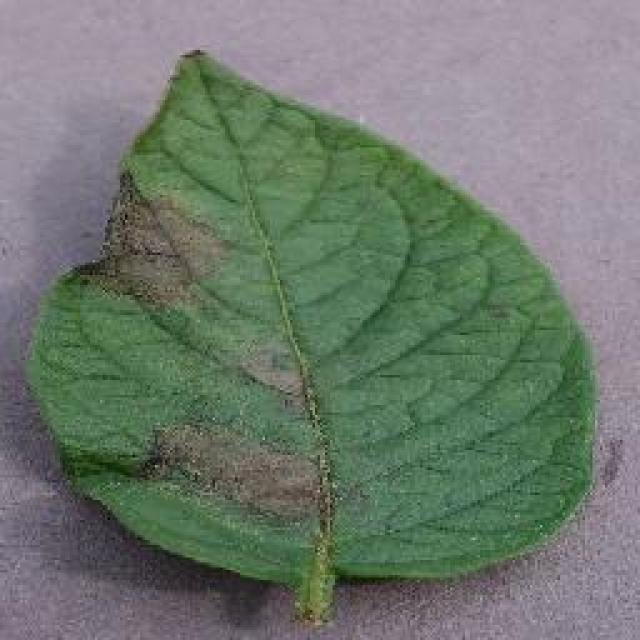late_blight: (18, 45, 602, 623)
